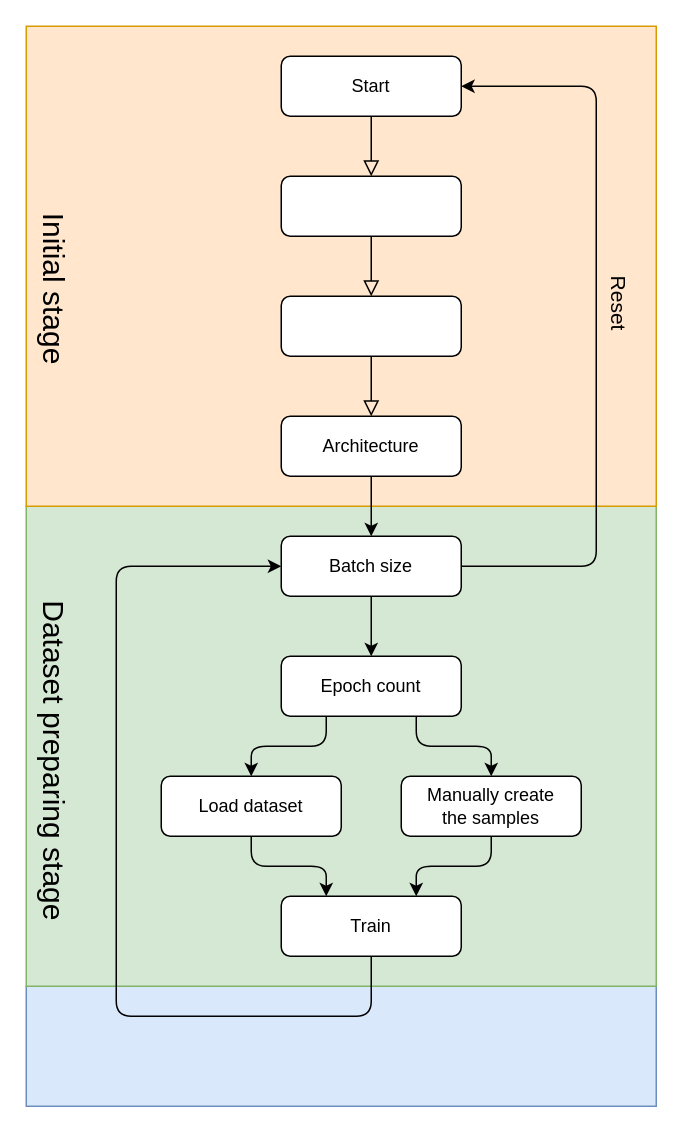
This 683x1133 diagram has some shape labels left out. The box of each missing label's shape, as (x1, y1, x2, y2) in pixels:
Category count: (280, 175, 461, 236)
Hidden layer count: (280, 295, 461, 356)
Training stage: (25, 985, 656, 1106)
